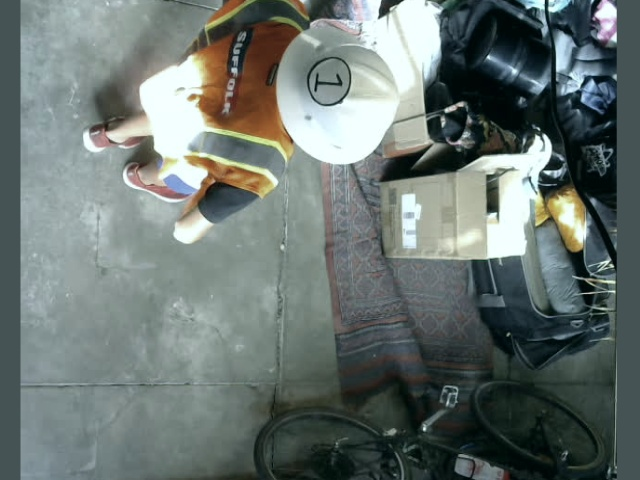one: (307, 56, 349, 103)
